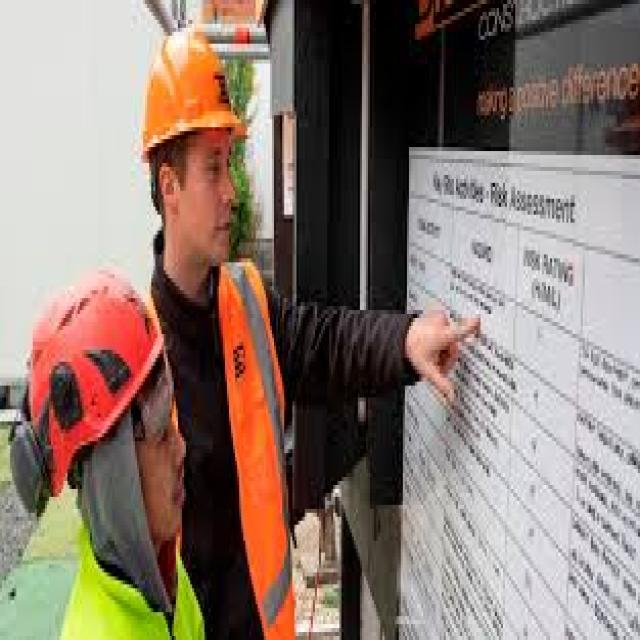Ear-Protection: (0, 409, 53, 513)
Helmet: (23, 258, 164, 438), (137, 12, 243, 155)
Vest: (220, 252, 290, 640)
